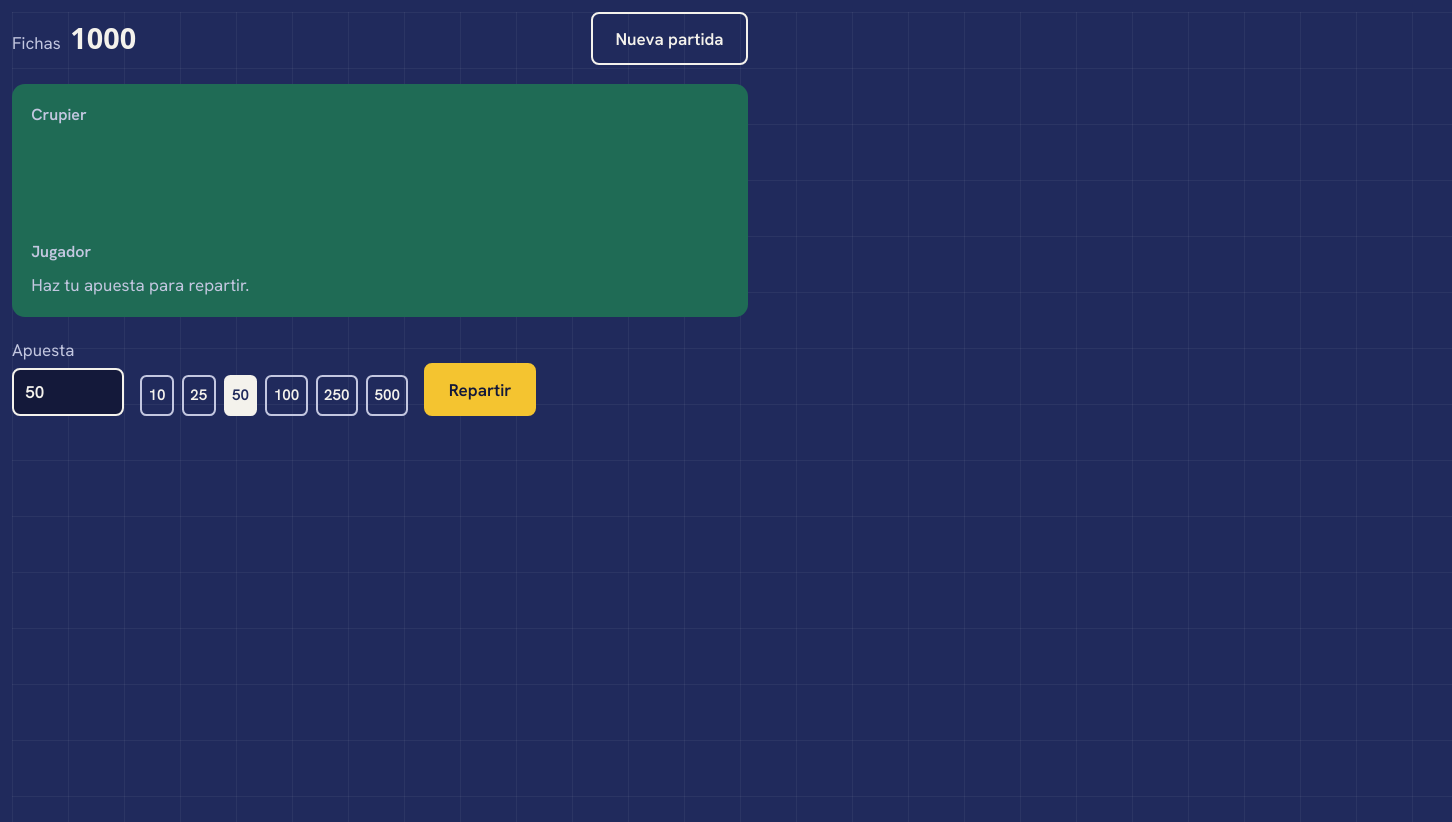
Scenario: el resultado blackjack se muestra como «¡Blackjack!»
Click the button "Repartir" at (480, 390), box [424,363,536,416]
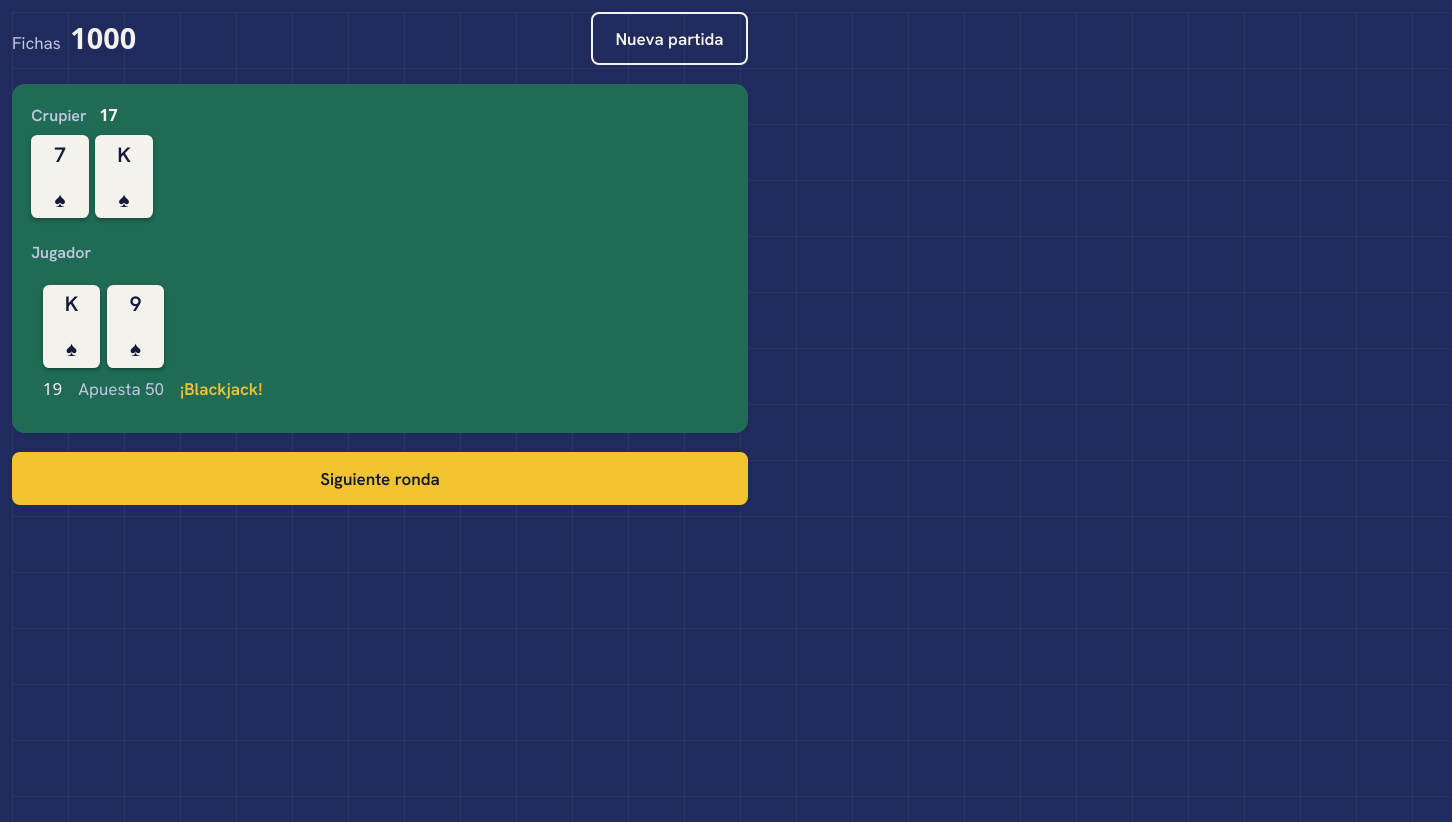
Expected: the text "¡Blackjack!" is shown, [180,376,262,402]
